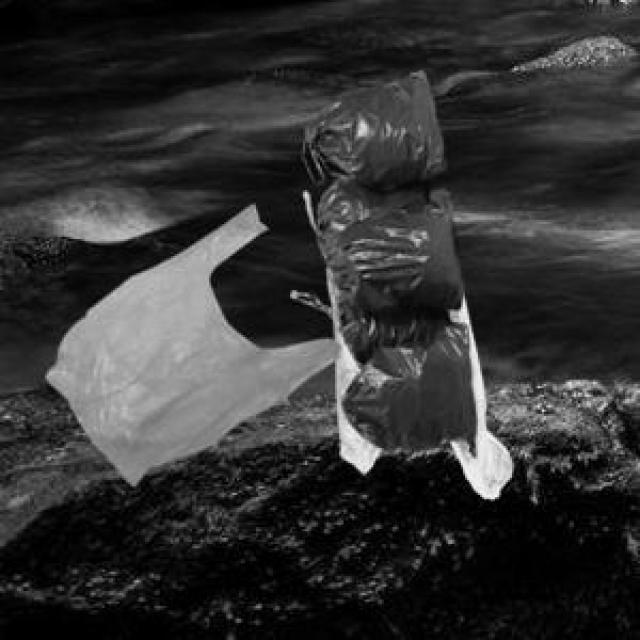miscellaneous trash: (299, 66, 472, 452)
